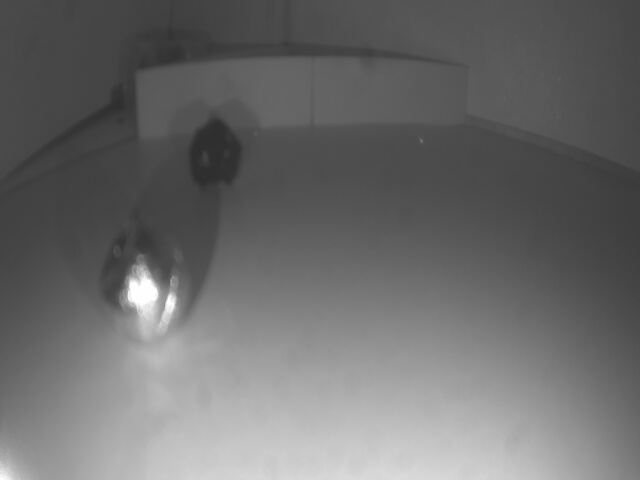Dead: (190, 120, 246, 187)
Live: (95, 219, 200, 345)
Point: (138, 56, 469, 145)
